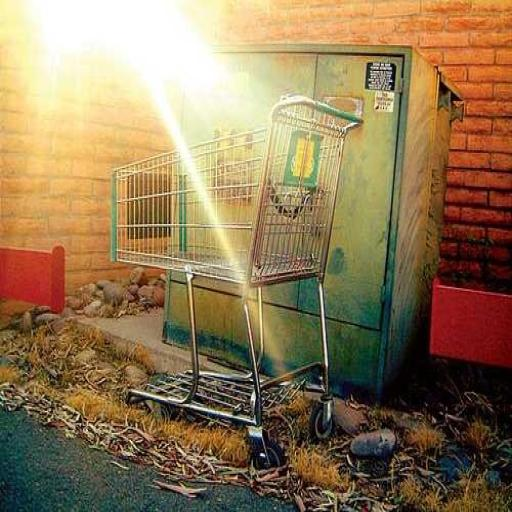shopping_cart: (108, 92, 364, 475)
